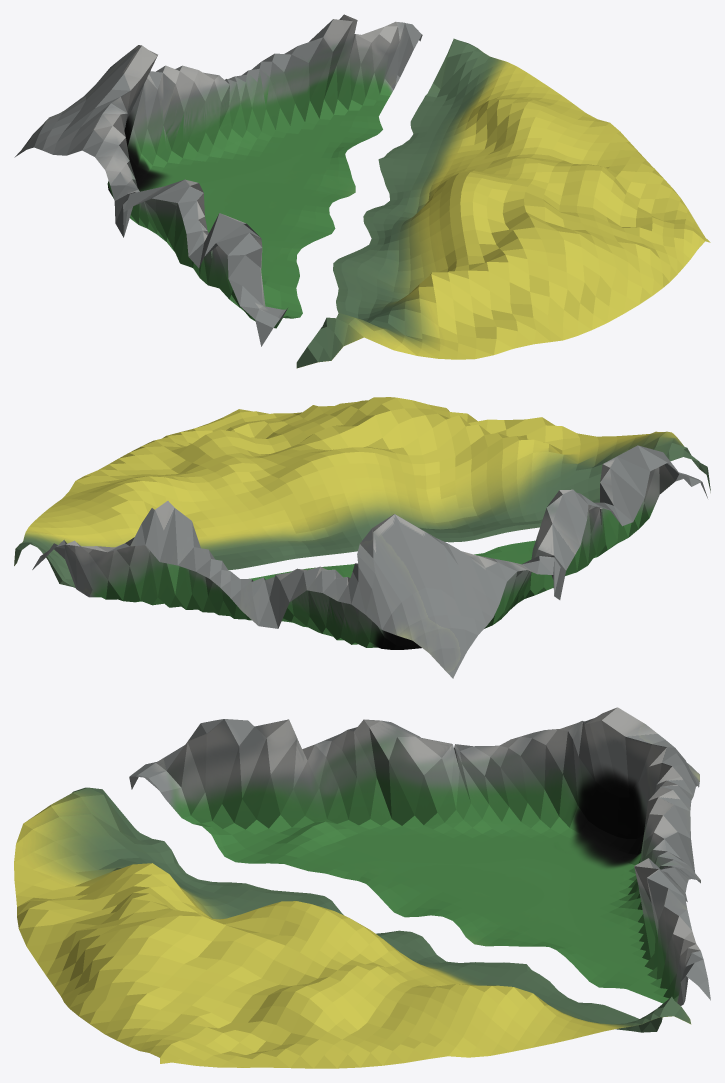
The model's file is BeachMap.fbx.
3 views of the same model, one above another, from view 1: azimuth 30°, elevation 25°; view 2: azimuth 150°, elevation 25°; view 3: azimuth 270°, elevation 25° (orthographic). The views are drawn at different scales.
Visible parts, largest first — view 1: Bottom, Top; view 2: Bottom, Top; view 3: Top, Bottom.
Boxes of the visible parts, x1,y1,x2,y2 form: Bottom: (296, 38, 710, 368); Top: (14, 14, 422, 346); Bottom: (14, 397, 710, 588); Top: (32, 445, 707, 678); Top: (129, 707, 710, 1005); Bottom: (14, 787, 691, 1068).
Bounding box in the file's own units: 4150 × 1220 × 4511.
2 materials, 2 textured.
